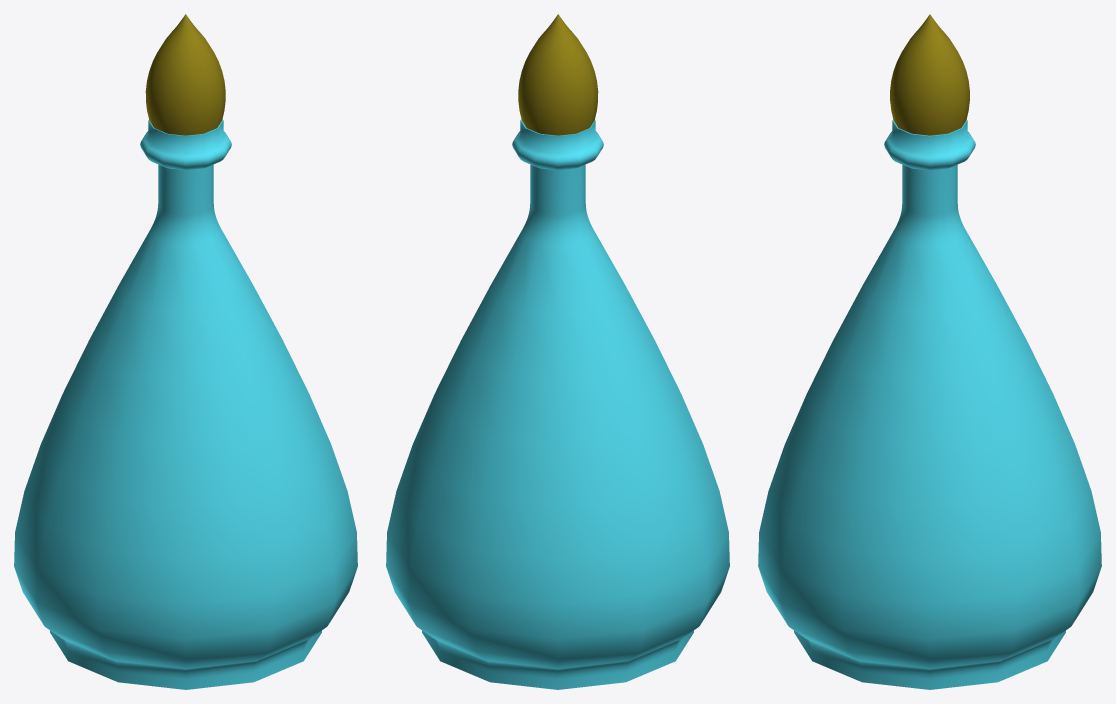
Rendered from potion13.FBX.
3 renders of one model, left to right at view 1: azimuth 30°, elevation 25°; view 2: azimuth 150°, elevation 25°; view 3: azimuth 270°, elevation 25°, orthographic.
Parts seen in each view (by area): view 1: potion_13glass; view 2: potion_13glass; view 3: potion_13glass.
Part boxes in pixels (x1,y1,x2,y2): potion_13glass: [14, 14, 357, 689]; potion_13glass: [386, 14, 729, 689]; potion_13glass: [758, 14, 1101, 689].
Bounding box in the file's own units: 24.53 × 49.5 × 24.53.
